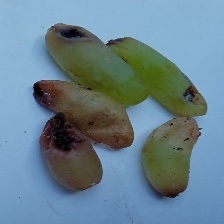grapes: (48, 57, 201, 196)
